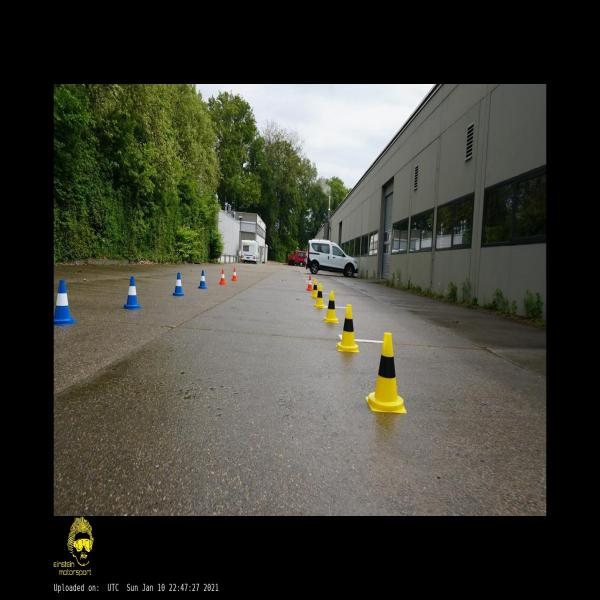blue_cone: (54, 280, 77, 326), (121, 276, 142, 309), (171, 272, 185, 296), (198, 270, 207, 289)
orange_cone: (219, 270, 226, 284), (306, 276, 313, 290), (231, 268, 238, 280)
yellow_cone: (365, 332, 407, 413), (337, 304, 359, 352), (323, 290, 339, 324), (314, 284, 324, 308), (310, 279, 318, 298)
